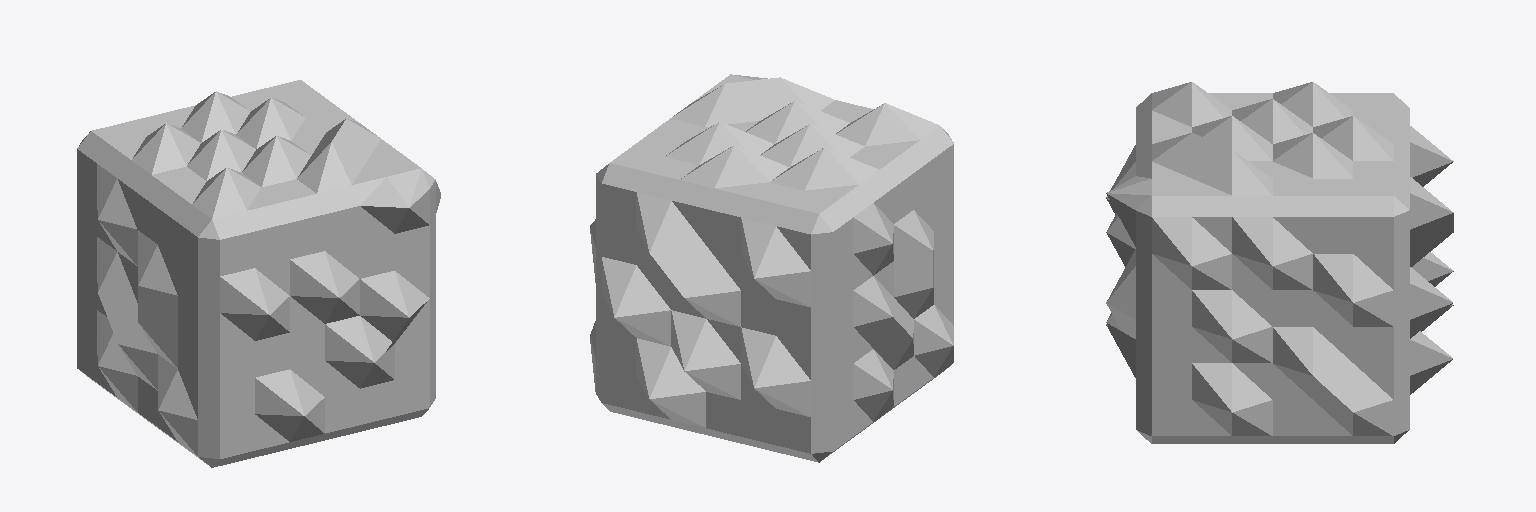
Rendered from Bush_4_Snow.obj.
3 views of the same model, side by side, from view 1: azimuth 30°, elevation 25°; view 2: azimuth 150°, elevation 25°; view 3: azimuth 270°, elevation 25° (orthographic).
Visible parts, largest first — view 1: Bush_4_Snow_Cylinder.028; view 2: Bush_4_Snow_Cylinder.028; view 3: Bush_4_Snow_Cylinder.028.
Part boxes in pixels (bbox=[...]): Bush_4_Snow_Cylinder.028: bbox=[77, 80, 440, 467]; Bush_4_Snow_Cylinder.028: bbox=[590, 74, 953, 462]; Bush_4_Snow_Cylinder.028: bbox=[1106, 82, 1453, 443].
Bounding box in the file's own units: 0.8841 × 0.8273 × 0.9398.